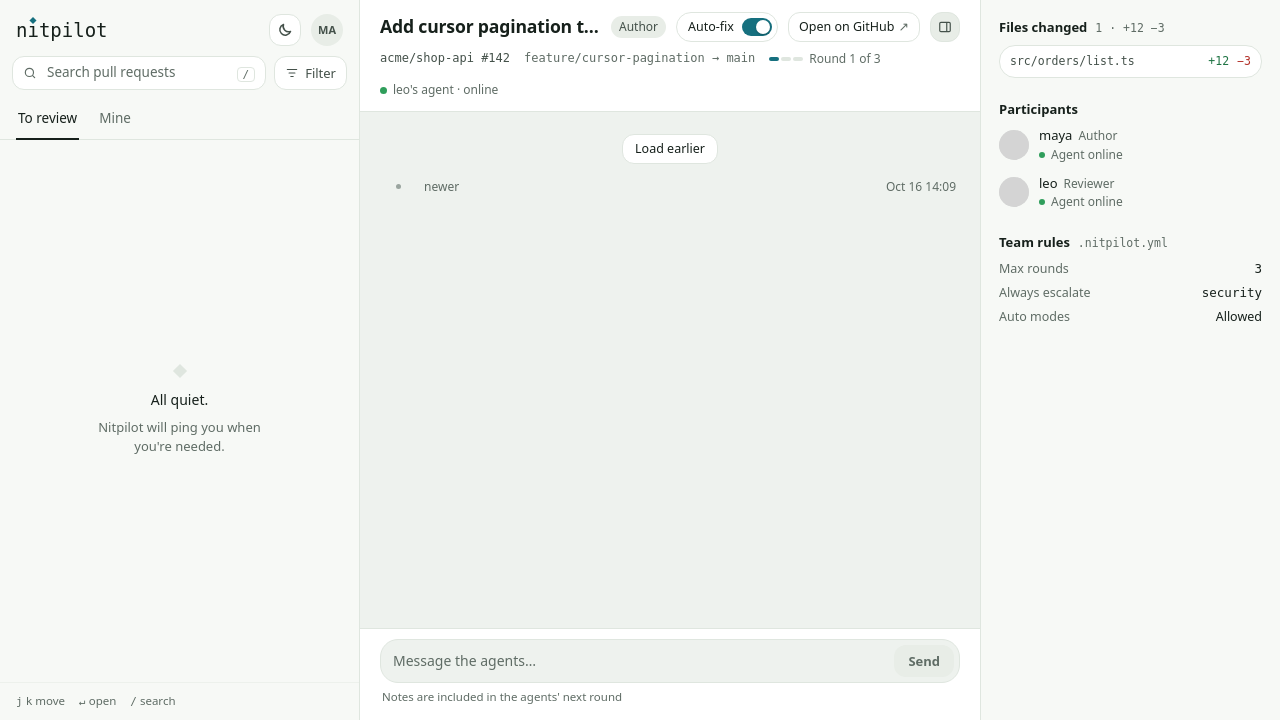
Chat (handoff §2) › says so when "Load earlier" fails, and lets you ask again
Click the button "Load earlier" at coordinates (670, 149), box [622,134,718,164]
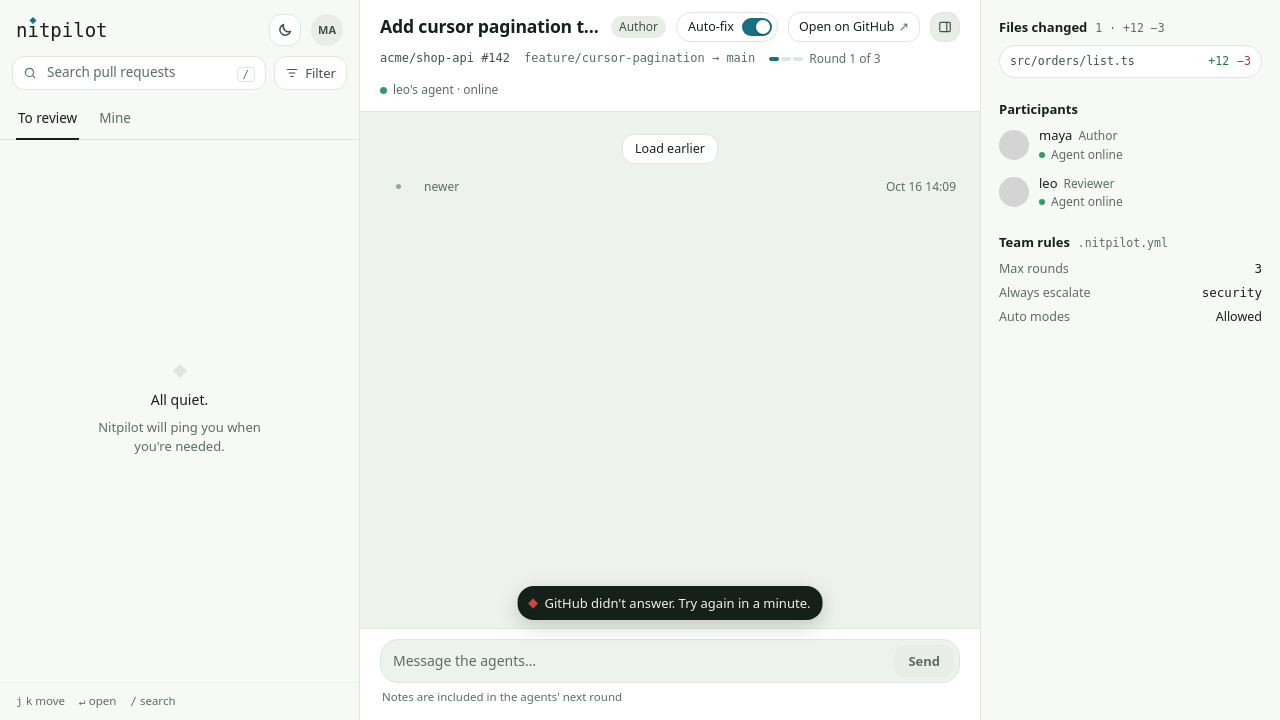
Expected: the text "GitHub didn't answer. Try again in a minute." is shown, [518,586,822,620]
